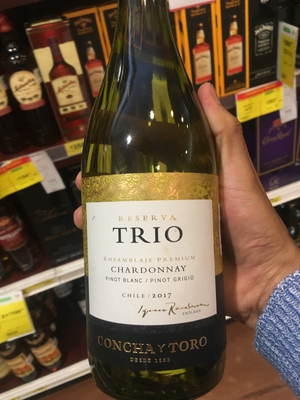trio chardonnay: (73, 33, 230, 400)
